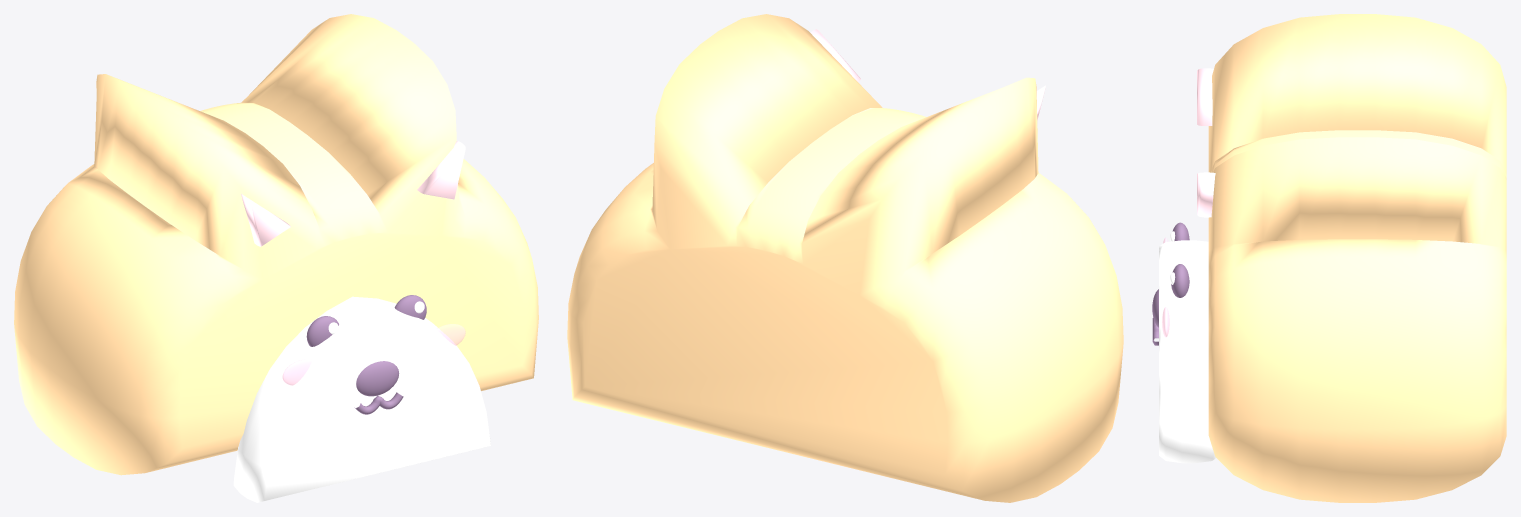
File: squishy_corgi.glb
3 renders of one model, left to right at view 1: azimuth 30°, elevation 25°; view 2: azimuth 150°, elevation 25°; view 3: azimuth 270°, elevation 25°, orthographic. The views are drawn at different scales.
Parts seen in each view (by area): view 1: corgi; view 2: corgi; view 3: corgi.
Part boxes in pixels (x1=…): corgi: x1=14, y1=14, x2=538, y2=502; corgi: x1=567, y1=14, x2=1123, y2=502; corgi: x1=1152, y1=14, x2=1506, y2=502.
Bounding box in the file's own units: 1.36 × 1 × 0.9714.
